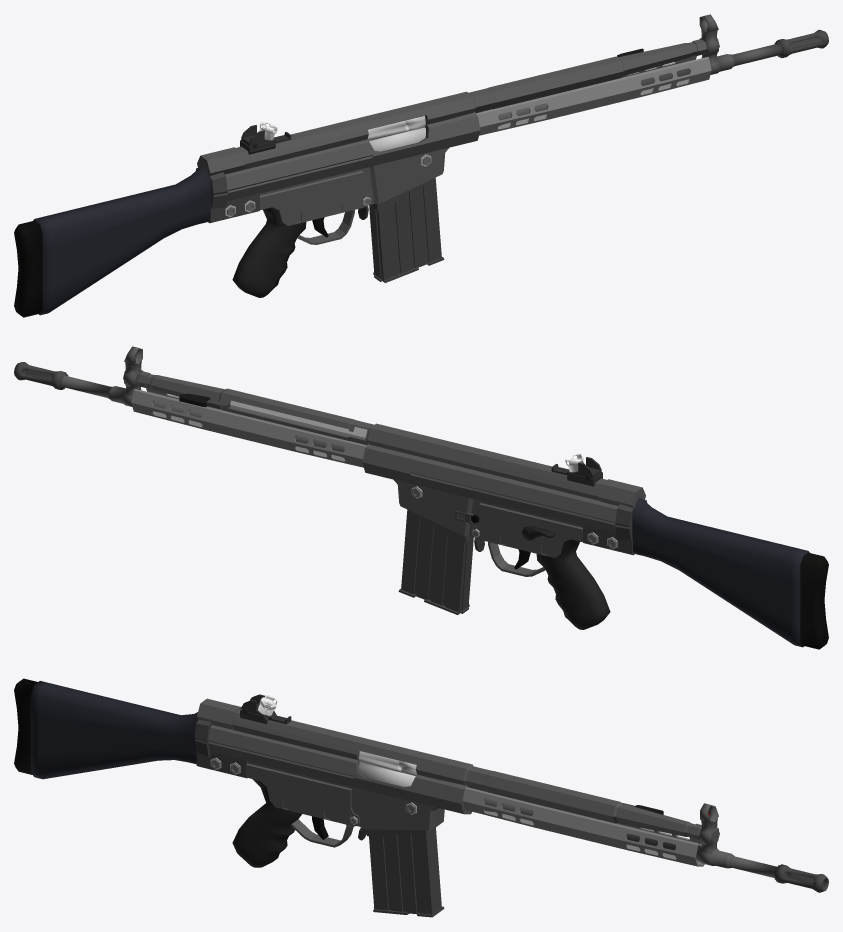
The picture shows the model from 3 angles, top to bottom: view 1: azimuth 30°, elevation 25°; view 2: azimuth 150°, elevation 25°; view 3: azimuth 330°, elevation 25°; orthographic projection.
Parts seen in each view (by area): view 1: HK_G3; view 2: HK_G3; view 3: HK_G3.
Boxes of the visible parts, x1,y1,x2,y2 form: HK_G3: (14,14,828,317); HK_G3: (14,346,828,649); HK_G3: (14,678,828,917).
Bounding box in the file's own units: 1.03 × 0.2232 × 0.0471.
